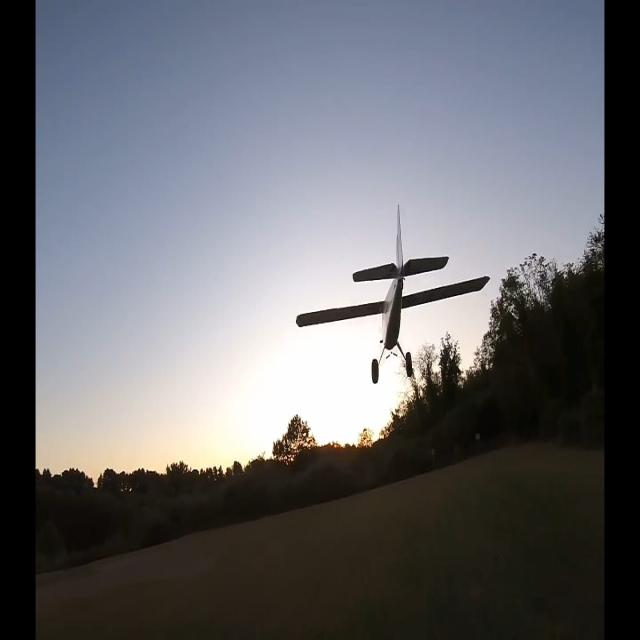iha: (288, 205, 483, 385)
